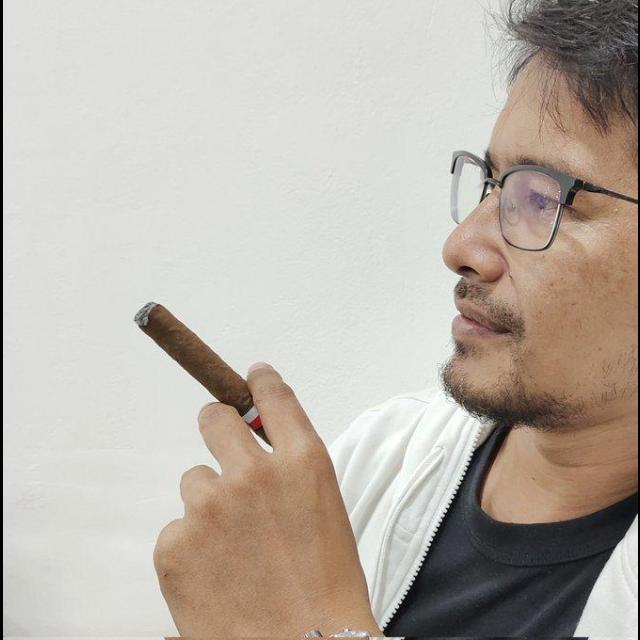rokok: (119, 295, 283, 455)
